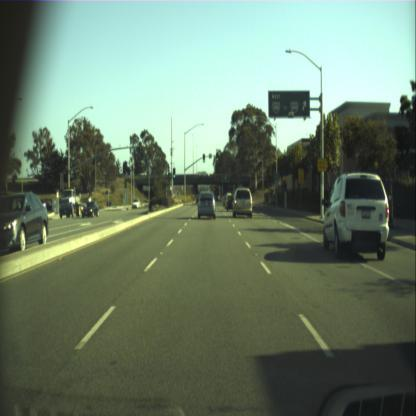Green: (172, 168, 176, 178), (202, 153, 205, 162), (216, 152, 219, 161)
